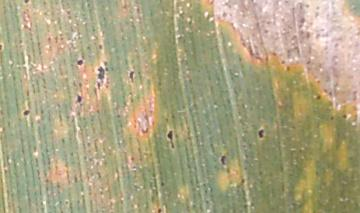tarspot: (165, 129, 178, 151), (96, 65, 105, 83), (218, 153, 227, 167), (127, 70, 136, 83), (257, 127, 265, 141), (104, 75, 111, 91), (128, 89, 135, 104), (75, 57, 84, 68), (28, 117, 35, 130), (21, 108, 31, 117), (75, 93, 83, 104), (314, 92, 322, 101), (95, 79, 101, 91), (60, 134, 66, 146), (76, 81, 84, 89), (160, 180, 167, 189), (239, 176, 246, 185), (279, 57, 286, 66), (120, 2, 127, 11), (71, 78, 76, 90), (328, 115, 336, 122), (341, 112, 348, 120), (35, 117, 42, 125), (84, 1, 91, 9), (154, 207, 163, 213), (1, 41, 5, 54), (97, 43, 103, 51), (85, 43, 91, 51), (21, 1, 30, 6), (102, 60, 109, 66), (104, 65, 110, 72), (38, 107, 44, 114), (66, 14, 72, 21), (115, 113, 121, 119), (95, 108, 101, 114), (284, 65, 289, 72), (65, 9, 72, 14), (129, 156, 136, 161)
